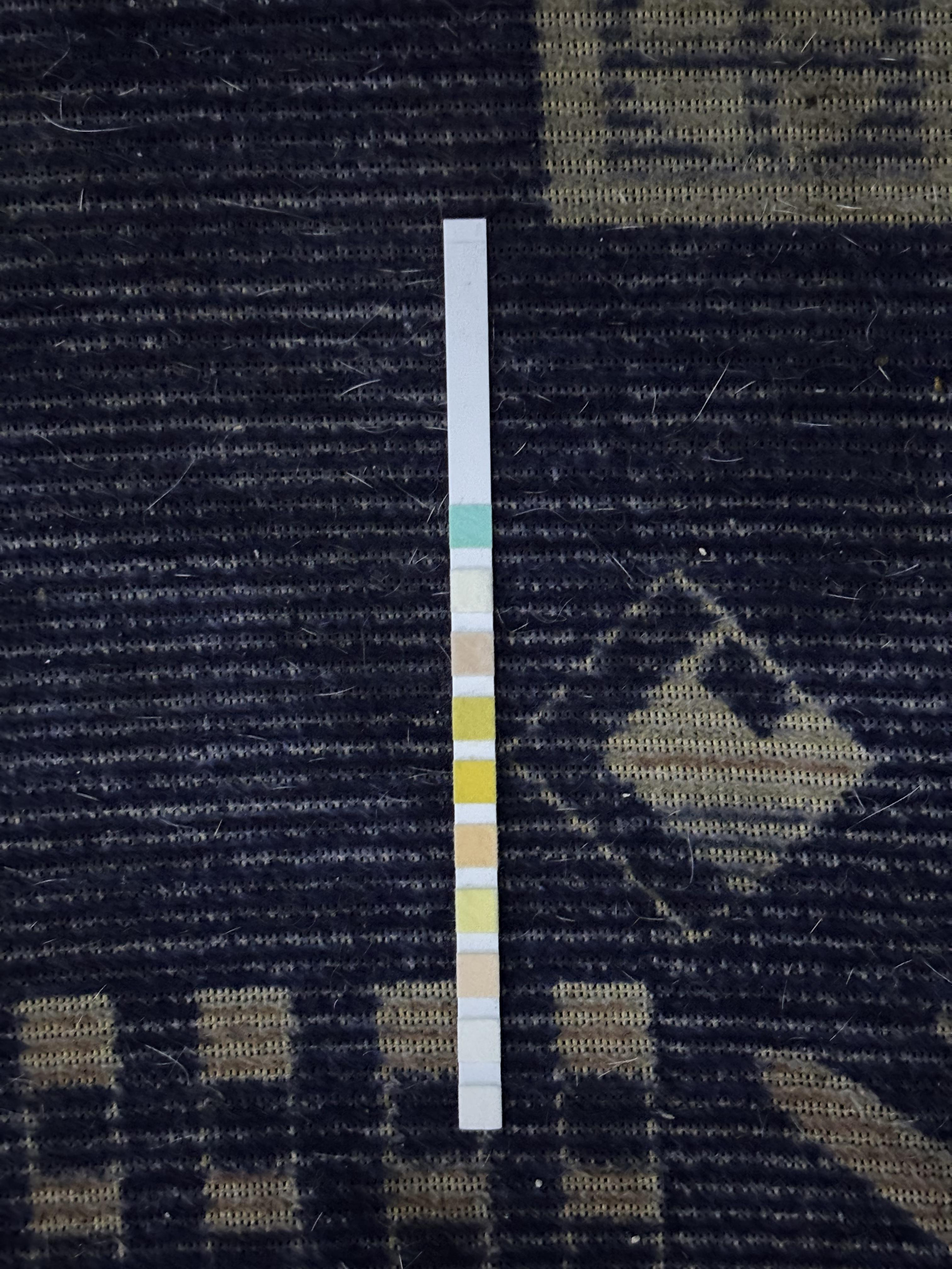Bilirubin: (451, 572, 492, 610)
Blood: (456, 760, 496, 802)
Glucose: (452, 507, 491, 546)
Ketone: (453, 632, 494, 675)
Leukocytes: (460, 1085, 501, 1128)
Nitrite: (459, 1019, 500, 1061)
Protein: (457, 888, 498, 931)
SpGravity: (455, 698, 495, 741)
Urobilinogen: (459, 955, 499, 997)
pH: (457, 825, 497, 868)
strip: (445, 241, 502, 1128)
